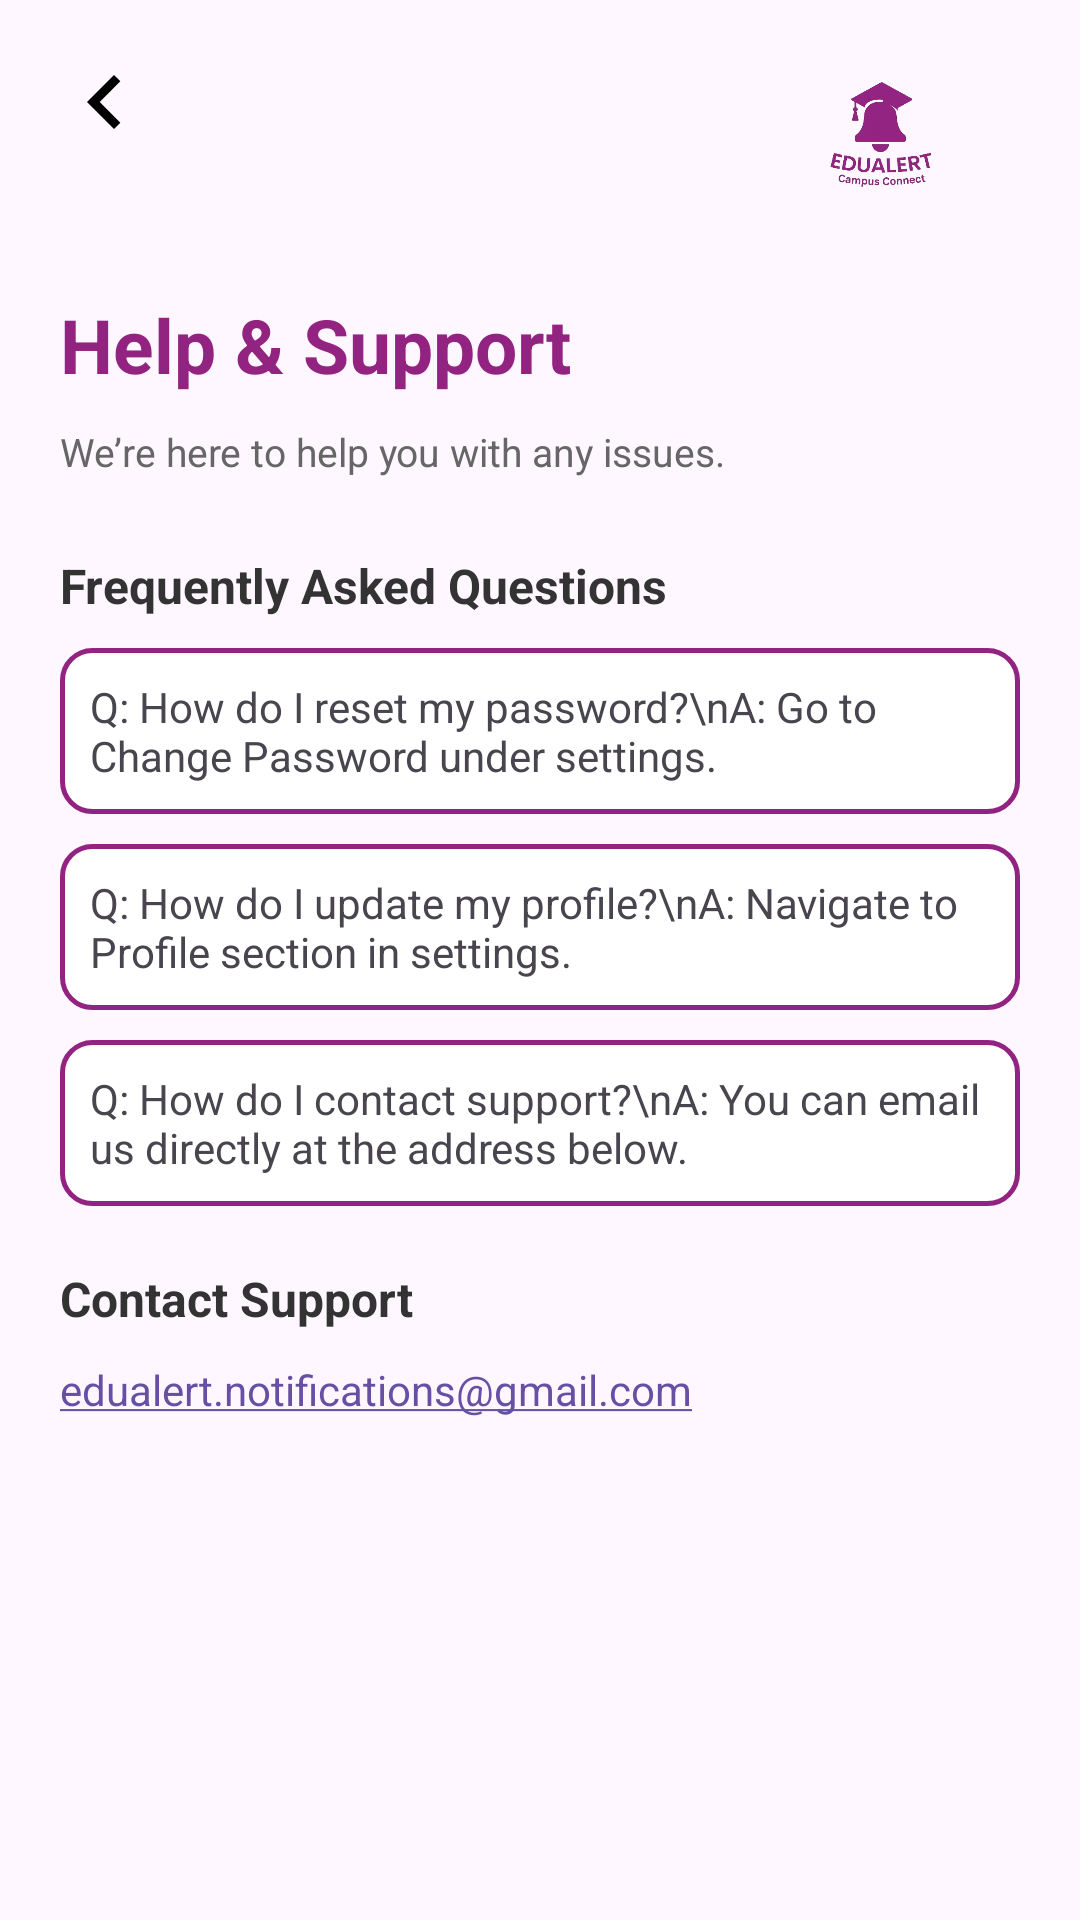

Named icons in this screenshot (1080×1920) and their bounding boxes, (x1, y1, x2, y2):
Back: (87, 75, 121, 129)
